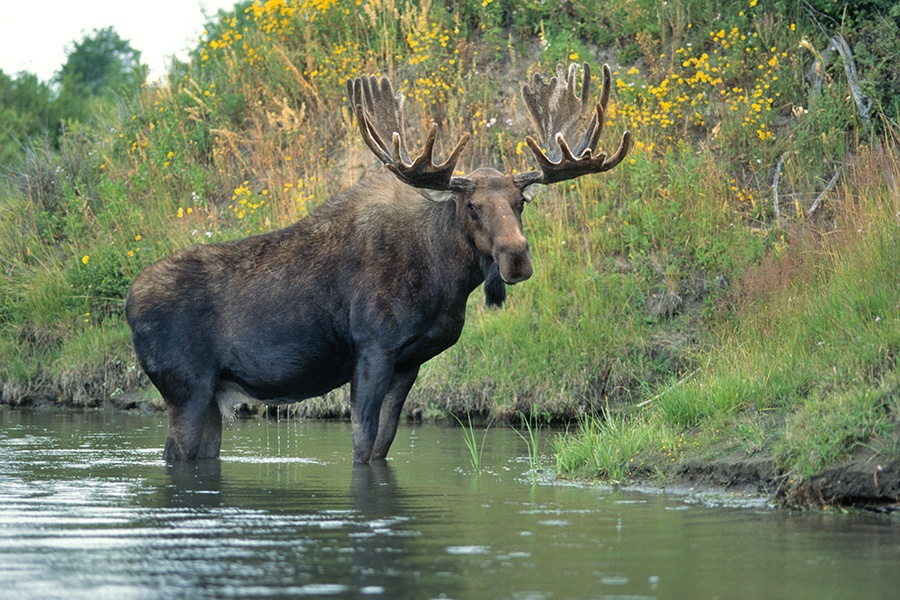moose: (116, 54, 639, 479)
